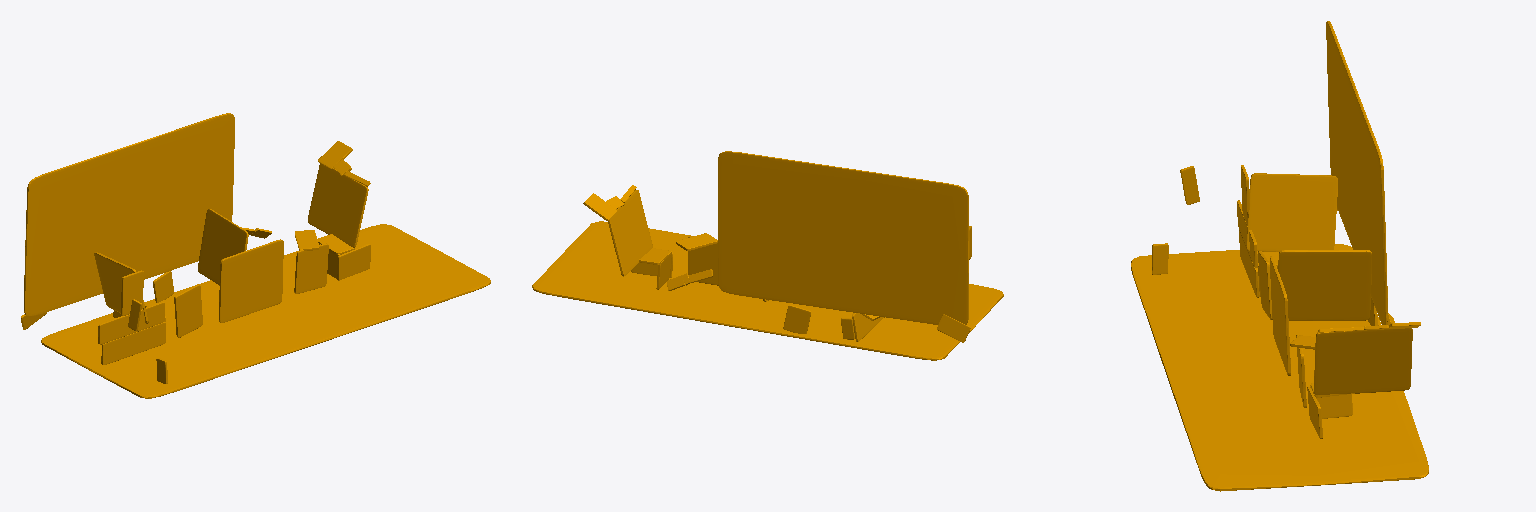
robot.urdf — scene:
<?xml version='1.0' encoding='utf-8'?>
<robot name="scene"><link name="scene_link"><visual><origin xyz="0.000000 0.000000 0.000000" rpy="0.000000 -0.000000 0.000000" /><geometry><mesh filename="part_000.obj" /></geometry></visual><collision><origin xyz="0.000000 0.000000 0.000000" rpy="0.000000 -0.000000 0.000000" /><geometry><mesh filename="part_000.obj" /></geometry></collision><visual><origin xyz="0.000000 0.000000 0.000000" rpy="0.000000 -0.000000 0.000000" /><geometry><mesh filename="part_001.obj" /></geometry></visual><collision><origin xyz="0.000000 0.000000 0.000000" rpy="0.000000 -0.000000 0.000000" /><geometry><mesh filename="part_001.obj" /></geometry></collision><visual><origin xyz="0.000000 0.000000 0.000000" rpy="0.000000 -0.000000 0.000000" /><geometry><mesh filename="part_002.obj" /></geometry></visual><collision><origin xyz="0.000000 0.000000 0.000000" rpy="0.000000 -0.000000 0.000000" /><geometry><mesh filename="part_002.obj" /></geometry></collision><visual><origin xyz="0.000000 0.000000 0.000000" rpy="0.000000 -0.000000 0.000000" /><geometry><mesh filename="part_003.obj" /></geometry></visual><collision><origin xyz="0.000000 0.000000 0.000000" rpy="0.000000 -0.000000 0.000000" /><geometry><mesh filename="part_003.obj" /></geometry></collision><visual><origin xyz="0.000000 0.000000 0.000000" rpy="0.000000 -0.000000 0.000000" /><geometry><mesh filename="part_004.obj" /></geometry></visual><collision><origin xyz="0.000000 0.000000 0.000000" rpy="0.000000 -0.000000 0.000000" /><geometry><mesh filename="part_004.obj" /></geometry></collision><visual><origin xyz="0.000000 0.000000 0.000000" rpy="0.000000 -0.000000 0.000000" /><geometry><mesh filename="part_005.obj" /></geometry></visual><collision><origin xyz="0.000000 0.000000 0.000000" rpy="0.000000 -0.000000 0.000000" /><geometry><mesh filename="part_005.obj" /></geometry></collision><visual><origin xyz="0.000000 0.000000 0.000000" rpy="0.000000 -0.000000 0.000000" /><geometry><mesh filename="part_006.obj" /></geometry></visual><collision><origin xyz="0.000000 0.000000 0.000000" rpy="0.000000 -0.000000 0.000000" /><geometry><mesh filename="part_006.obj" /></geometry></collision><visual><origin xyz="0.000000 0.000000 0.000000" rpy="0.000000 -0.000000 0.000000" /><geometry><mesh filename="part_007.obj" /></geometry></visual><collision><origin xyz="0.000000 0.000000 0.000000" rpy="0.000000 -0.000000 0.000000" /><geometry><mesh filename="part_007.obj" /></geometry></collision><visual><origin xyz="0.000000 0.000000 0.000000" rpy="0.000000 -0.000000 0.000000" /><geometry><mesh filename="part_008.obj" /></geometry></visual><collision><origin xyz="0.000000 0.000000 0.000000" rpy="0.000000 -0.000000 0.000000" /><geometry><mesh filename="part_008.obj" /></geometry></collision><visual><origin xyz="0.000000 0.000000 0.000000" rpy="0.000000 -0.000000 0.000000" /><geometry><mesh filename="part_009.obj" /></geometry></visual><collision><origin xyz="0.000000 0.000000 0.000000" rpy="0.000000 -0.000000 0.000000" /><geometry><mesh filename="part_009.obj" /></geometry></collision><visual><origin xyz="0.000000 0.000000 0.000000" rpy="0.000000 -0.000000 0.000000" /><geometry><mesh filename="part_010.obj" /></geometry></visual><collision><origin xyz="0.000000 0.000000 0.000000" rpy="0.000000 -0.000000 0.000000" /><geometry><mesh filename="part_010.obj" /></geometry></collision><visual><origin xyz="0.000000 0.000000 0.000000" rpy="0.000000 -0.000000 0.000000" /><geometry><mesh filename="part_011.obj" /></geometry></visual><collision><origin xyz="0.000000 0.000000 0.000000" rpy="0.000000 -0.000000 0.000000" /><geometry><mesh filename="part_011.obj" /></geometry></collision><visual><origin xyz="0.000000 0.000000 0.000000" rpy="0.000000 -0.000000 0.000000" /><geometry><mesh filename="part_012.obj" /></geometry></visual><collision><origin xyz="0.000000 0.000000 0.000000" rpy="0.000000 -0.000000 0.000000" /><geometry><mesh filename="part_012.obj" /></geometry></collision><visual><origin xyz="0.000000 0.000000 0.000000" rpy="0.000000 -0.000000 0.000000" /><geometry><mesh filename="part_013.obj" /></geometry></visual><collision><origin xyz="0.000000 0.000000 0.000000" rpy="0.000000 -0.000000 0.000000" /><geometry><mesh filename="part_013.obj" /></geometry></collision><visual><origin xyz="0.000000 0.000000 0.000000" rpy="0.000000 -0.000000 0.000000" /><geometry><mesh filename="part_014.obj" /></geometry></visual><collision><origin xyz="0.000000 0.000000 0.000000" rpy="0.000000 -0.000000 0.000000" /><geometry><mesh filename="part_014.obj" /></geometry></collision><visual><origin xyz="0.000000 0.000000 0.000000" rpy="0.000000 -0.000000 0.000000" /><geometry><mesh filename="part_015.obj" /></geometry></visual><collision><origin xyz="0.000000 0.000000 0.000000" rpy="0.000000 -0.000000 0.000000" /><geometry><mesh filename="part_015.obj" /></geometry></collision><visual><origin xyz="0.000000 0.000000 0.000000" rpy="0.000000 -0.000000 0.000000" /><geometry><mesh filename="part_016.obj" /></geometry></visual><collision><origin xyz="0.000000 0.000000 0.000000" rpy="0.000000 -0.000000 0.000000" /><geometry><mesh filename="part_016.obj" /></geometry></collision><visual><origin xyz="0.000000 0.000000 0.000000" rpy="0.000000 -0.000000 0.000000" /><geometry><mesh filename="part_017.obj" /></geometry></visual><collision><origin xyz="0.000000 0.000000 0.000000" rpy="0.000000 -0.000000 0.000000" /><geometry><mesh filename="part_017.obj" /></geometry></collision><visual><origin xyz="0.000000 0.000000 0.000000" rpy="0.000000 -0.000000 0.000000" /><geometry><mesh filename="part_018.obj" /></geometry></visual><collision><origin xyz="0.000000 0.000000 0.000000" rpy="0.000000 -0.000000 0.000000" /><geometry><mesh filename="part_018.obj" /></geometry></collision><visual><origin xyz="0.000000 0.000000 0.000000" rpy="0.000000 -0.000000 0.000000" /><geometry><mesh filename="part_019.obj" /></geometry></visual><collision><origin xyz="0.000000 0.000000 0.000000" rpy="0.000000 -0.000000 0.000000" /><geometry><mesh filename="part_019.obj" /></geometry></collision><visual><origin xyz="0.000000 0.000000 0.000000" rpy="0.000000 -0.000000 0.000000" /><geometry><mesh filename="part_020.obj" /></geometry></visual><collision><origin xyz="0.000000 0.000000 0.000000" rpy="0.000000 -0.000000 0.000000" /><geometry><mesh filename="part_020.obj" /></geometry></collision><visual><origin xyz="0.000000 0.000000 0.000000" rpy="0.000000 -0.000000 0.000000" /><geometry><mesh filename="part_021.obj" /></geometry></visual><collision><origin xyz="0.000000 0.000000 0.000000" rpy="0.000000 -0.000000 0.000000" /><geometry><mesh filename="part_021.obj" /></geometry></collision><visual><origin xyz="0.000000 0.000000 0.000000" rpy="0.000000 -0.000000 0.000000" /><geometry><mesh filename="part_022.obj" /></geometry></visual><collision><origin xyz="0.000000 0.000000 0.000000" rpy="0.000000 -0.000000 0.000000" /><geometry><mesh filename="part_022.obj" /></geometry></collision><visual><origin xyz="0.000000 0.000000 0.000000" rpy="0.000000 -0.000000 0.000000" /><geometry><mesh filename="part_023.obj" /></geometry></visual><collision><origin xyz="0.000000 0.000000 0.000000" rpy="0.000000 -0.000000 0.000000" /><geometry><mesh filename="part_023.obj" /></geometry></collision><visual><origin xyz="0.000000 0.000000 0.000000" rpy="0.000000 -0.000000 0.000000" /><geometry><mesh filename="part_024.obj" /></geometry></visual><collision><origin xyz="0.000000 0.000000 0.000000" rpy="0.000000 -0.000000 0.000000" /><geometry><mesh filename="part_024.obj" /></geometry></collision><visual><origin xyz="0.000000 0.000000 0.000000" rpy="0.000000 -0.000000 0.000000" /><geometry><mesh filename="part_025.obj" /></geometry></visual><collision><origin xyz="0.000000 0.000000 0.000000" rpy="0.000000 -0.000000 0.000000" /><geometry><mesh filename="part_025.obj" /></geometry></collision><visual><origin xyz="0.000000 0.000000 0.000000" rpy="0.000000 -0.000000 0.000000" /><geometry><mesh filename="part_026.obj" /></geometry></visual><collision><origin xyz="0.000000 0.000000 0.000000" rpy="0.000000 -0.000000 0.000000" /><geometry><mesh filename="part_026.obj" /></geometry></collision><visual><origin xyz="0.000000 0.000000 0.000000" rpy="0.000000 -0.000000 0.000000" /><geometry><mesh filename="part_027.obj" /></geometry></visual><collision><origin xyz="0.000000 0.000000 0.000000" rpy="0.000000 -0.000000 0.000000" /><geometry><mesh filename="part_027.obj" /></geometry></collision></link></robot>

--- Render facts (derived) ---
The picture shows the robot from 3 angles, left to right: view 1: azimuth 30°, elevation 25°; view 2: azimuth 150°, elevation 25°; view 3: azimuth 270°, elevation 25°; orthographic projection.
Model scene with 1 links and 0 joints (none), rooted at scene_link, posed all joints at 0.
Visible links, largest first — view 1: scene_link; view 2: scene_link; view 3: scene_link.
Boxes of the visible links, x1=… form: scene_link: x1=21, y1=113, x2=490, y2=398; scene_link: x1=532, y1=151, x2=1003, y2=360; scene_link: x1=1131, y1=21, x2=1428, y2=491.
Bounding box of the posed robot: 7.41 × 3.57 × 2.89 m (x, y, z).
28 mesh visuals loaded from 28 distinct referenced files (28 OBJ).